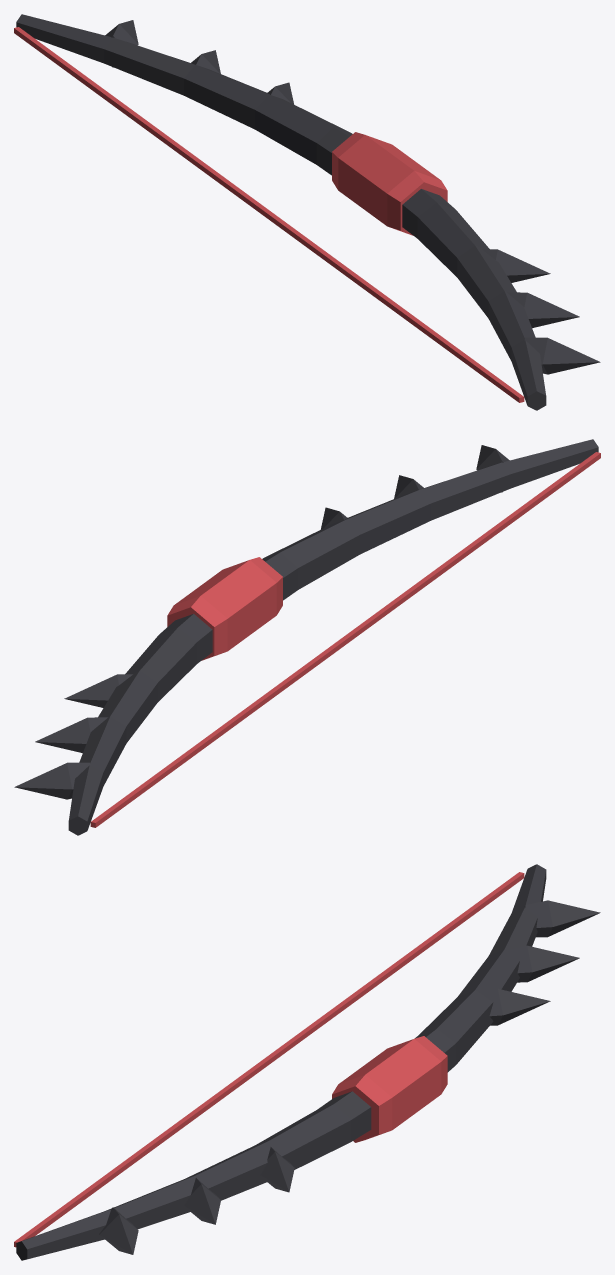
The model's file is ruinstring.glb.
3 renders of one model, top to bottom at view 1: azimuth 30°, elevation 25°; view 2: azimuth 150°, elevation 25°; view 3: azimuth 330°, elevation 25°, orthographic.
Visible parts, largest first — view 1: ruinstring; view 2: ruinstring; view 3: ruinstring.
Part boxes in pixels (x1=…): ruinstring: x1=14, y1=14, x2=600, y2=410; ruinstring: x1=14, y1=439, x2=600, y2=835; ruinstring: x1=14, y1=864, x2=600, y2=1260.
Size of the model in its own units: 0.1806 by 0.0736 by 1.06.
